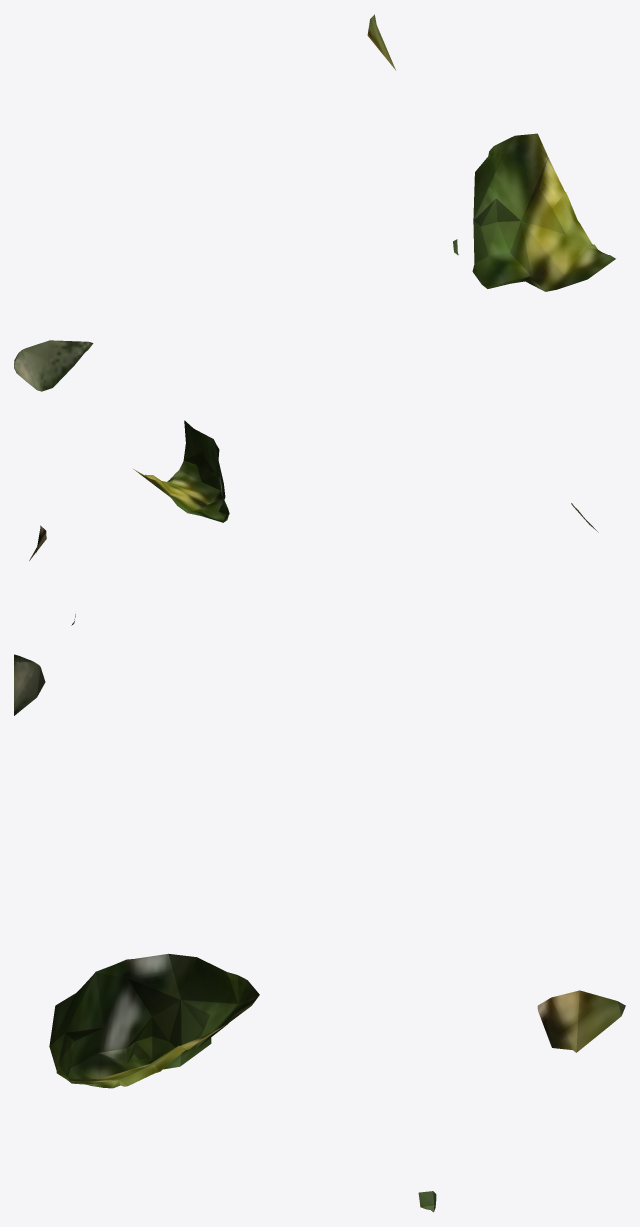
The picture shows the model from 3 angles, top to bottom: view 1: azimuth 30°, elevation 25°; view 2: azimuth 150°, elevation 25°; view 3: azimuth 270°, elevation 25°; orthographic projection. The views are drawn at different scales.
Size of the model in its own units: 1.34 by 0.3675 by 0.9856.
Materials: 1 (1 with a texture image).
